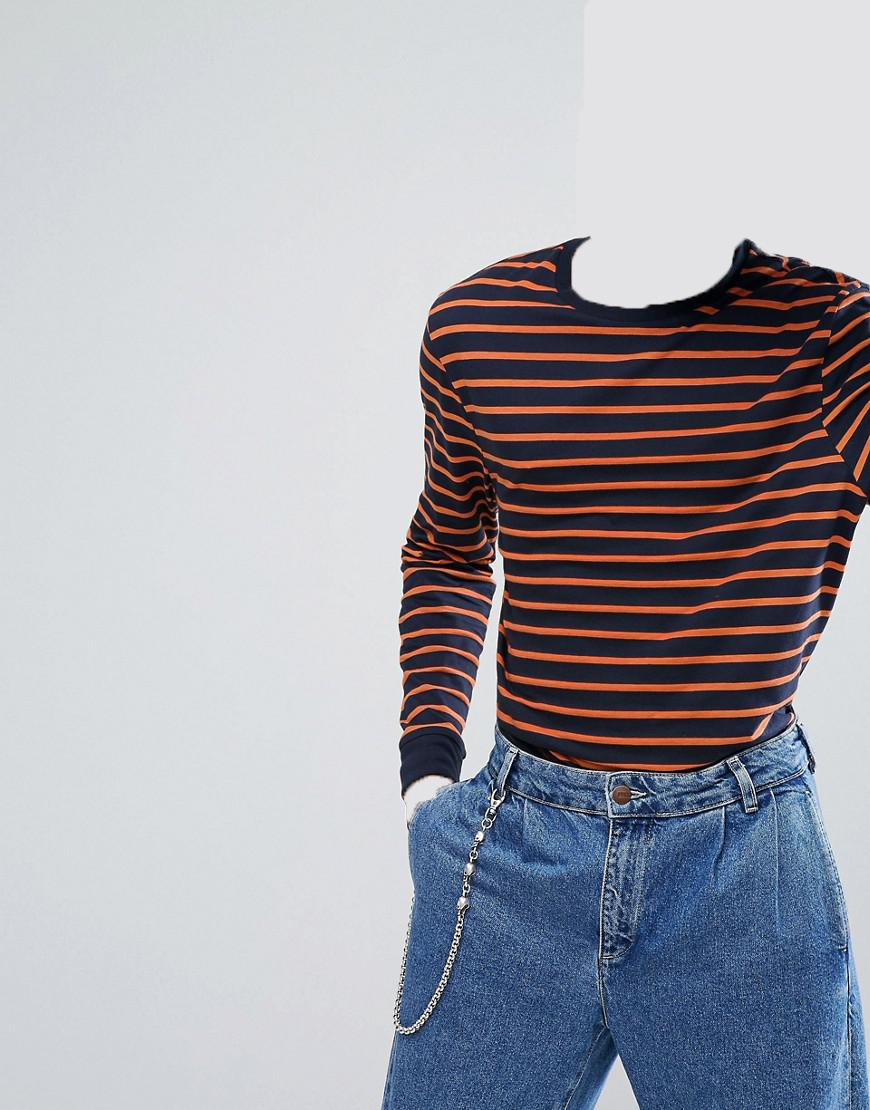teeshirt: (386, 225, 870, 803)
